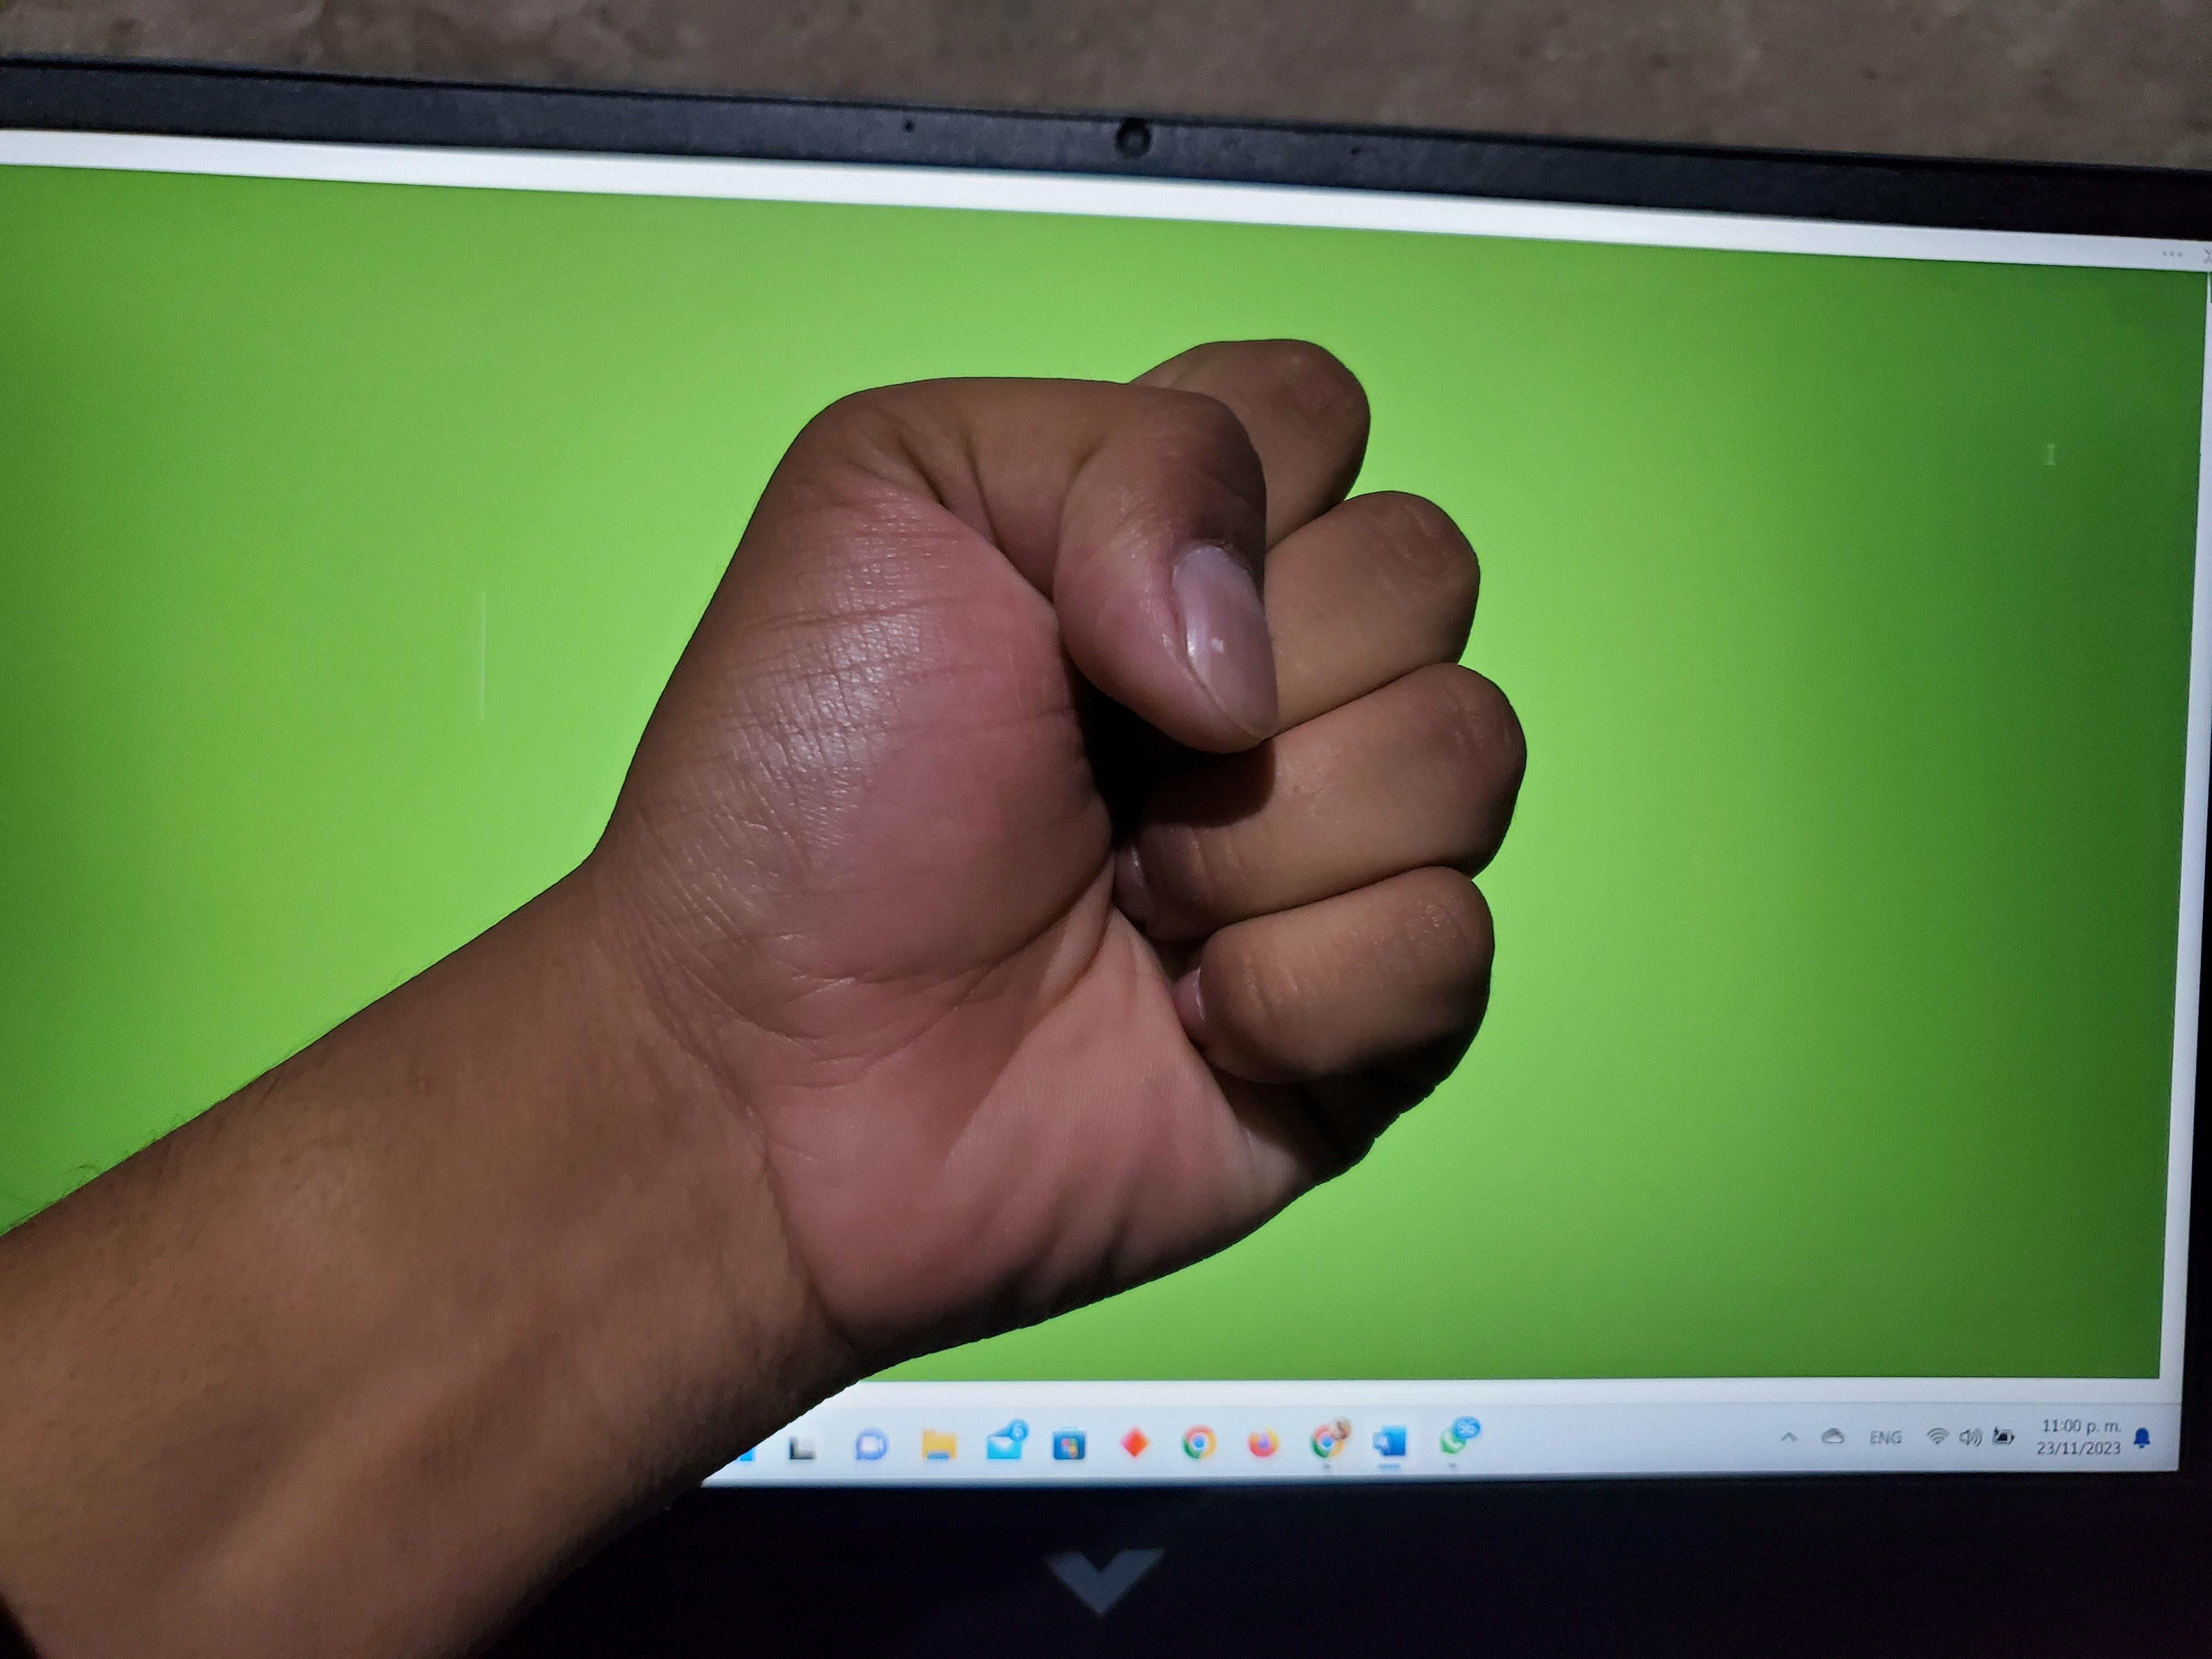Stone: (324, 84, 1905, 1391)
